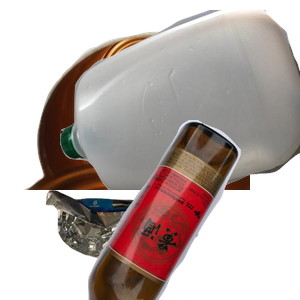glass: (85, 120, 300, 300)
metal: (21, 29, 261, 209)
plastic: (60, 10, 300, 190)
trash: (43, 187, 234, 300)
